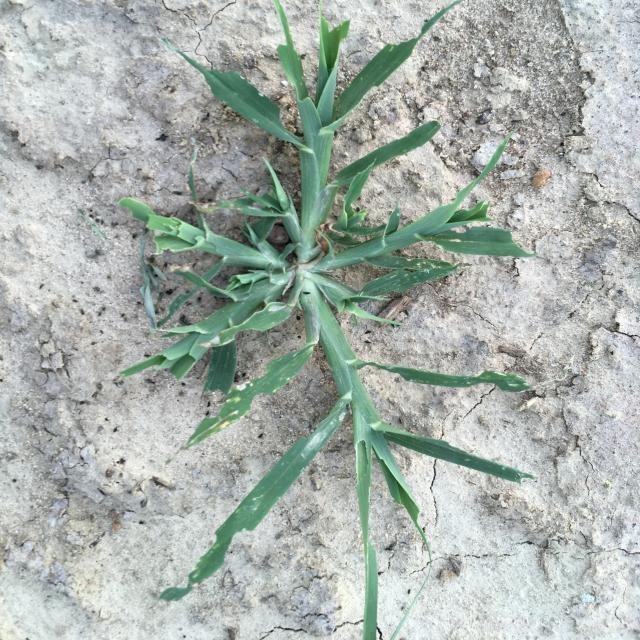Goosegrass: (119, 1, 538, 640)
